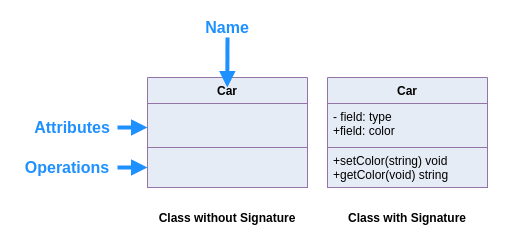
The diagram is 505 pixels wide and 242 high, and some of its shapes have lost their labels. Each missing label, with the centre of its shape:
+setColor() +getColor(): point 227,167
- field +field: point 227,125
